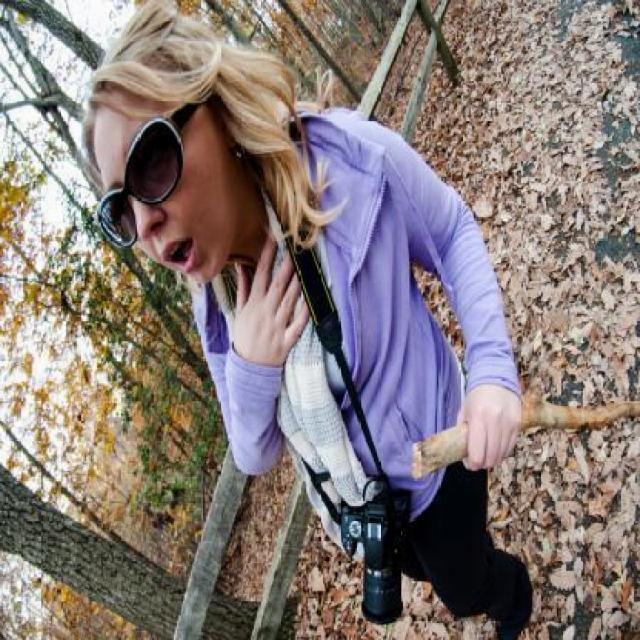face_nomask: (103, 113, 231, 279)
glasses: (92, 103, 196, 260)
hand_noglove: (212, 243, 325, 349), (446, 370, 528, 476)
head_nohelmet: (47, 32, 144, 156)
person: (64, 6, 562, 634)
